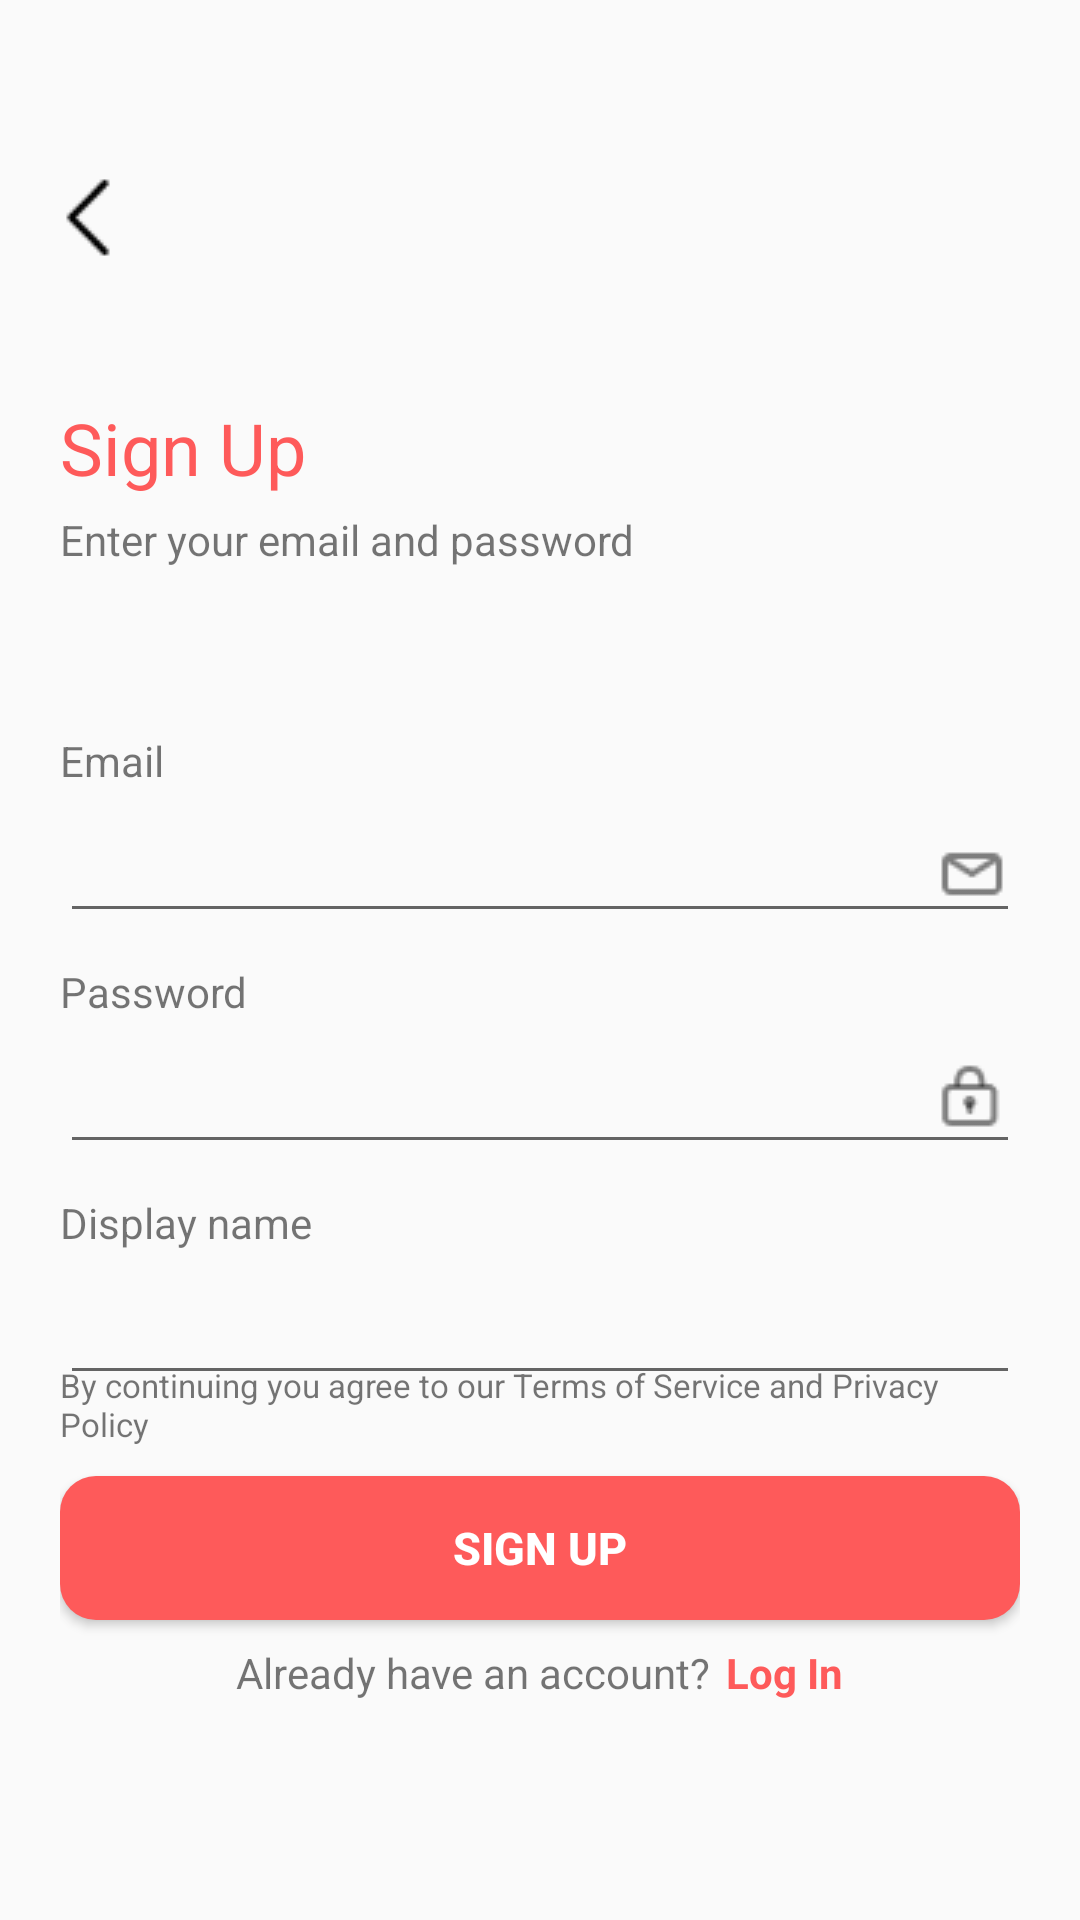

Screen size 1080 × 1920. Icon name, then its center in pixels as (x=x, y=y):
back: (x=88, y=217)
